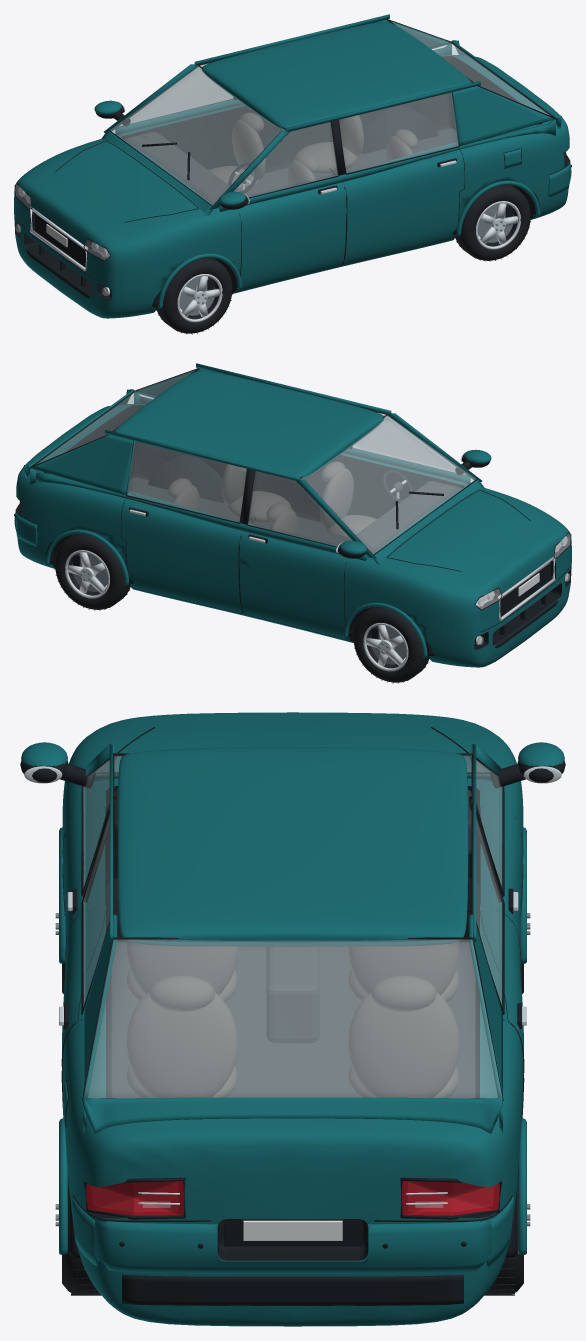
Rendered from generic-electric-hatchback.glb.
The picture shows the model from 3 angles, top to bottom: view 1: azimuth 30°, elevation 25°; view 2: azimuth 150°, elevation 25°; view 3: azimuth 270°, elevation 25°; orthographic projection. The views are drawn at different scales.
Parts seen in each view (by area): view 1: Original electric_hatchback fourteen-section body shell, Crowned roof pressing, Raked transparent windscreen, Separate closed door panel.001, Separate closed door panel, Rear door transparent glass, Front door transparent glass, Wide hatchback C-pillar, Separate closed door panel.002, Original tyre carcass and shaped sidewalls, Original tyre carcass and shaped sidewalls.002, Sculpted instrument panel (+29 smaller); view 2: Original electric_hatchback fourteen-section body shell, Crowned roof pressing, Raked transparent windscreen, Separate closed door panel.003, Separate closed door panel.002, Rear door transparent glass.001, Front door transparent glass.001, Wide hatchback C-pillar.001, Separate closed door panel, Original tyre carcass and shaped sidewalls.001, Original tyre carcass and shaped sidewalls.003, Sculpted instrument panel (+30 smaller); view 3: Original electric_hatchback fourteen-section body shell, Crowned roof pressing, Rear transparent hatch glass, Interior carpet, Formed painted rear bumper cover, Sculpted rear lower bumper insert, Painted rear glass sill, Contoured seat back.002, Contoured seat back.003, Center console, Contoured seat back, Contoured seat back.001 (+31 smaller).
Part boxes in pixels (x1=…): Original electric_hatchback fourteen-section body shell: x1=14, y1=55, x2=569, y2=318; Crowned roof pressing: x1=201, y1=21, x2=471, y2=129; Raked transparent windscreen: x1=110, y1=66, x2=285, y2=205; Separate closed door panel.001: x1=343, y1=152, x2=464, y2=264; Separate closed door panel: x1=238, y1=176, x2=346, y2=290; Rear door transparent glass: x1=339, y1=92, x2=458, y2=173; Front door transparent glass: x1=233, y1=122, x2=337, y2=197; Wide hatchback C-pillar: x1=450, y1=86, x2=554, y2=145; Separate closed door panel.002: x1=134, y1=105, x2=242, y2=169; Original tyre carcass and shaped sidewalls: x1=157, y1=257, x2=232, y2=333; Original tyre carcass and shaped sidewalls.002: x1=456, y1=185, x2=530, y2=260; Sculpted instrument panel: x1=124, y1=132, x2=237, y2=204; Original electric_hatchback fourteen-section body shell: x1=16, y1=404, x2=571, y2=667; Crowned roof pressing: x1=114, y1=370, x2=384, y2=478; Raked transparent windscreen: x1=300, y1=415, x2=475, y2=554; Separate closed door panel.003: x1=121, y1=501, x2=242, y2=613; Separate closed door panel.002: x1=239, y1=525, x2=347, y2=639; Rear door transparent glass.001: x1=127, y1=441, x2=246, y2=522; Front door transparent glass.001: x1=248, y1=471, x2=352, y2=546; Wide hatchback C-pillar.001: x1=31, y1=435, x2=135, y2=494; Separate closed door panel: x1=343, y1=454, x2=452, y2=518; Original tyre carcass and shaped sidewalls.001: x1=353, y1=606, x2=428, y2=682; Original tyre carcass and shaped sidewalls.003: x1=55, y1=534, x2=130, y2=609; Sculpted instrument panel: x1=348, y1=481, x2=461, y2=553; Original electric_hatchback fourteen-section body shell: x1=62, y1=712, x2=523, y2=1326; Crowned roof pressing: x1=117, y1=747, x2=468, y2=946; Rear transparent hatch glass: x1=84, y1=939, x2=501, y2=1098; Interior carpet: x1=110, y1=942, x2=475, y2=1098; Formed painted rear bumper cover: x1=94, y1=1218, x2=491, y2=1273; Sculpted rear lower bumper insert: x1=122, y1=1274, x2=463, y2=1305; Painted rear glass sill: x1=83, y1=1097, x2=502, y2=1133; Contoured seat back.002: x1=126, y1=992, x2=238, y2=1097; Contoured seat back.003: x1=347, y1=992, x2=459, y2=1097; Center console: x1=266, y1=946, x2=319, y2=1042; Contoured seat back: x1=126, y1=941, x2=238, y2=994; Contoured seat back.001: x1=347, y1=941, x2=459, y2=994.
Size of the model in its own units: 4.29 by 1.53 by 2.14.
11 materials, 11 textured.
